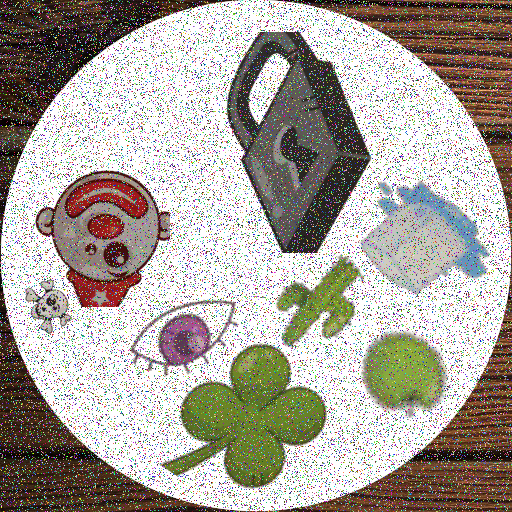apple_icon: (361, 324, 455, 418)
cactus_icon: (266, 247, 379, 360)
cloverleaf_icon: (150, 322, 327, 499)
clown_icon: (30, 167, 170, 307)
cube_icon: (341, 170, 493, 322)
eye_icon: (126, 275, 244, 393)
lock_icon: (181, 32, 402, 253)
skull_icon: (20, 277, 80, 337)
